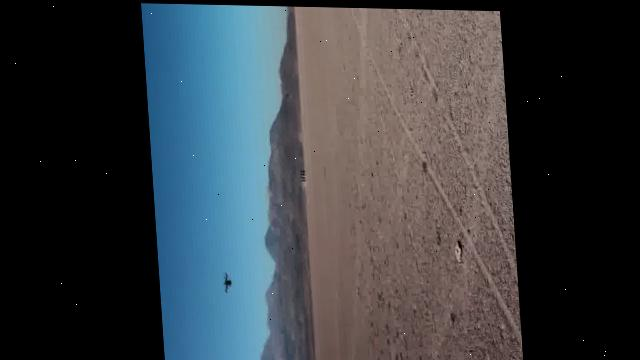drone: (213, 267, 228, 294)
